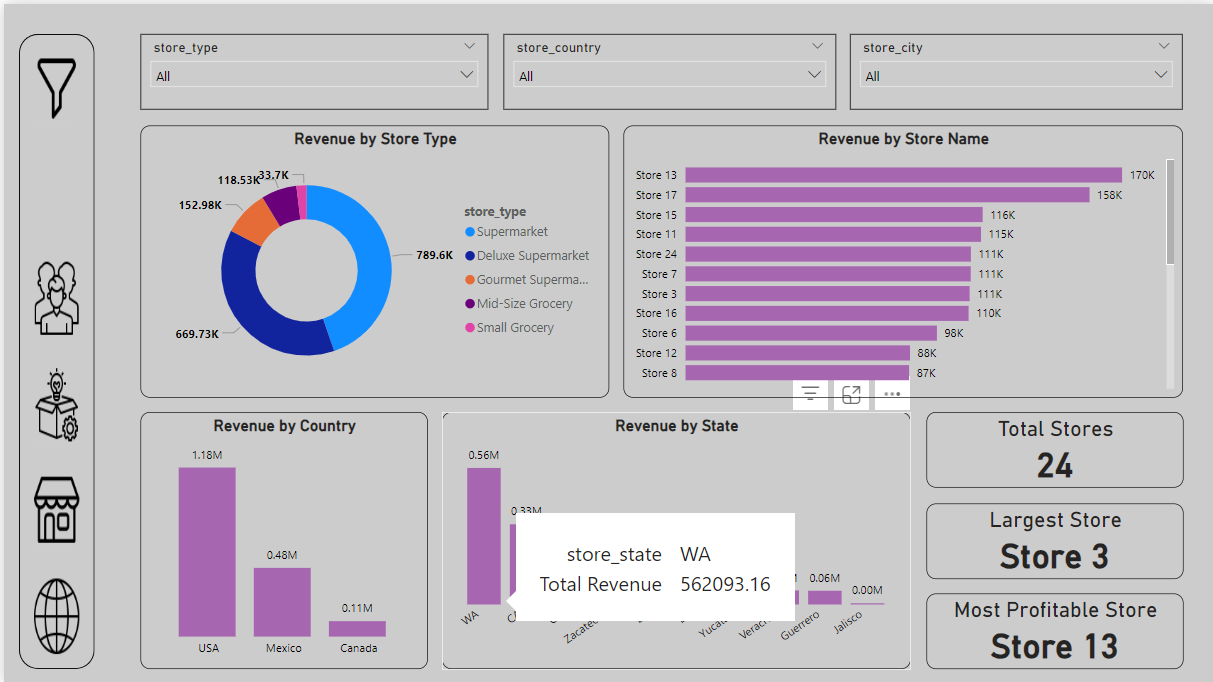

The dashboard page shown, as its layout file describes it:
{"tool":"powerbi","page":{"name":"Stores","canvas":[1280,720],"ordinal":3},"visuals":[{"type":"donutChart","title":"Revenue by Store Type","fields":{"Y":["Measure Table.Total Revenue"],"Category":["Stores.store_type"]},"box":[144,128,496,288],"z":0},{"type":"columnChart","title":"Revenue by Country","fields":{"Y":["Measure Table.Total Revenue"],"Category":["Stores.store_country"]},"box":[144,432,304,272],"z":1000},{"type":"columnChart","title":"Revenue by State","fields":{"Y":["Measure Table.Total Revenue"],"Category":["Stores.store_state"]},"box":[464,432,496,272],"z":2000},{"type":"clusteredBarChart","title":"Revenue by Store Name","fields":{"Category":["Stores.store_name"],"Y":["Measure Table.Total Revenue"]},"box":[656,128,592,288],"z":3000},{"type":"slicer","fields":{"Values":["Stores.store_city"]},"box":[896,32,352,80],"z":4000},{"type":"slicer","fields":{"Values":["Stores.store_country"]},"box":[528,32,352,80],"z":5000},{"type":"slicer","fields":{"Values":["Stores.store_type"]},"box":[144,32,368,80],"z":6000},{"type":"card","title":"Largest Store","fields":{"Values":["Min(Stores.store_type)"]},"box":[976,528,272,80],"z":7000},{"type":"card","title":"Most Profitable Store","fields":{"Values":["Min(Stores.store_type)"]},"box":[976,624,272,80],"z":8000},{"type":"card","title":"Total Stores","fields":{"Values":["Measure Table.Total Stores"]},"box":[976,432,272,80],"z":9000},{"type":"shape","box":[16,32,80,672],"z":10000},{"type":"actionButton","box":[32,48,48,80],"z":11000},{"type":"actionButton","box":[32,272,48,80],"z":12000},{"type":"actionButton","box":[32,496,48,80],"z":13000},{"type":"actionButton","box":[32,608,48,80],"z":14000},{"type":"actionButton","box":[32,384,48,80],"z":15000}]}

Visuals, with their boxes on the page's 1280x720 design canvas (x1, y1, x2, y2). These are canvas units, not pixel positions in the 1213x682 screenshot, which may show the page scaled, cropped or inside an application window:
"Revenue by Store Type" donutChart: 144 128 640 416
"Revenue by Country" columnChart: 144 432 448 704
"Revenue by State" columnChart: 464 432 960 704
"Revenue by Store Name" clusteredBarChart: 656 128 1248 416
slicer - Stores.store_city: 896 32 1248 112
slicer - Stores.store_country: 528 32 880 112
slicer - Stores.store_type: 144 32 512 112
"Largest Store" card: 976 528 1248 608
"Most Profitable Store" card: 976 624 1248 704
"Total Stores" card: 976 432 1248 512
shape: 16 32 96 704
actionButton: 32 48 80 128
actionButton: 32 272 80 352
actionButton: 32 496 80 576
actionButton: 32 608 80 688
actionButton: 32 384 80 464
